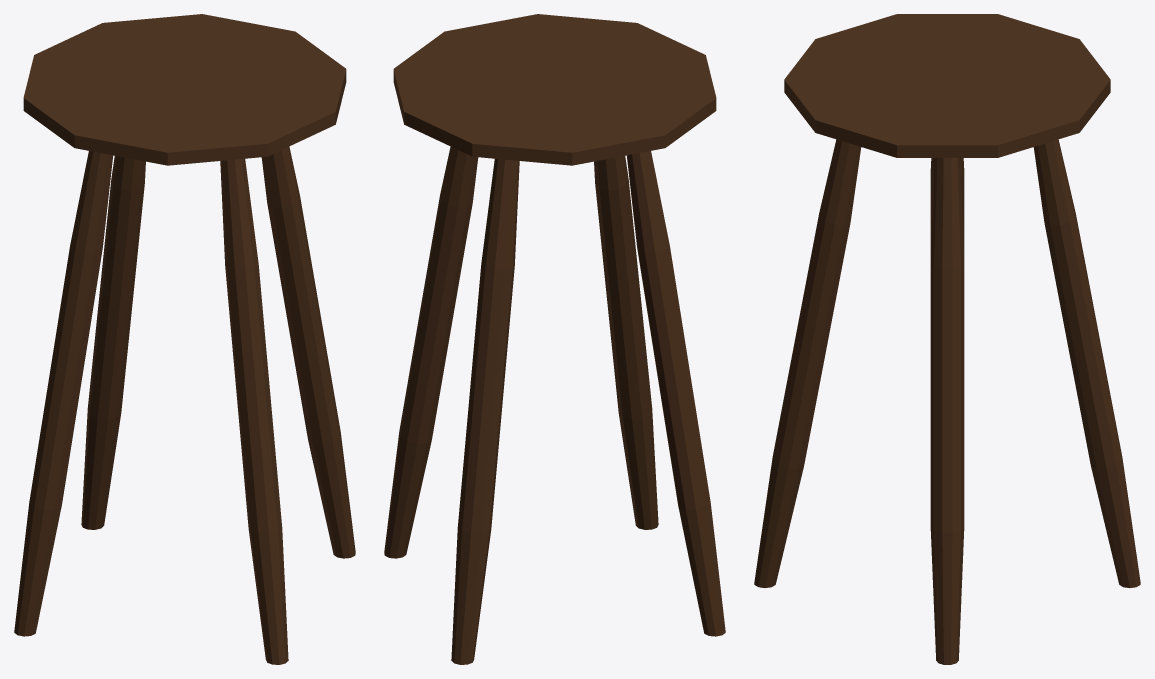
Rendered from Stool02.fbx.
3 views of the same model, side by side, from view 1: azimuth 30°, elevation 25°; view 2: azimuth 150°, elevation 25°; view 3: azimuth 270°, elevation 25° (orthographic).
Visible parts, largest first — view 1: Stool02; view 2: Stool02; view 3: Stool02.
Boxes of the visible parts, x1,y1,x2,y2 form: Stool02: (14,14,355,664); Stool02: (384,14,725,664); Stool02: (754,14,1140,664).
Bounding box in the file's own units: 140 × 202 × 140.
